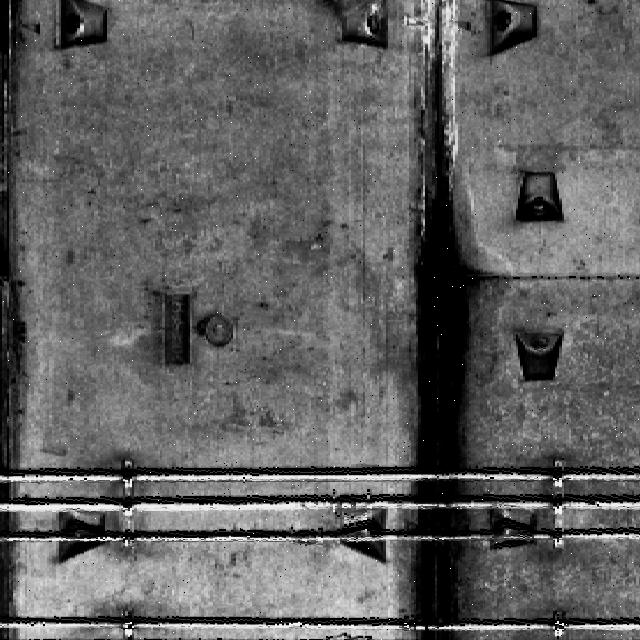leakage: (398, 0, 500, 639)
